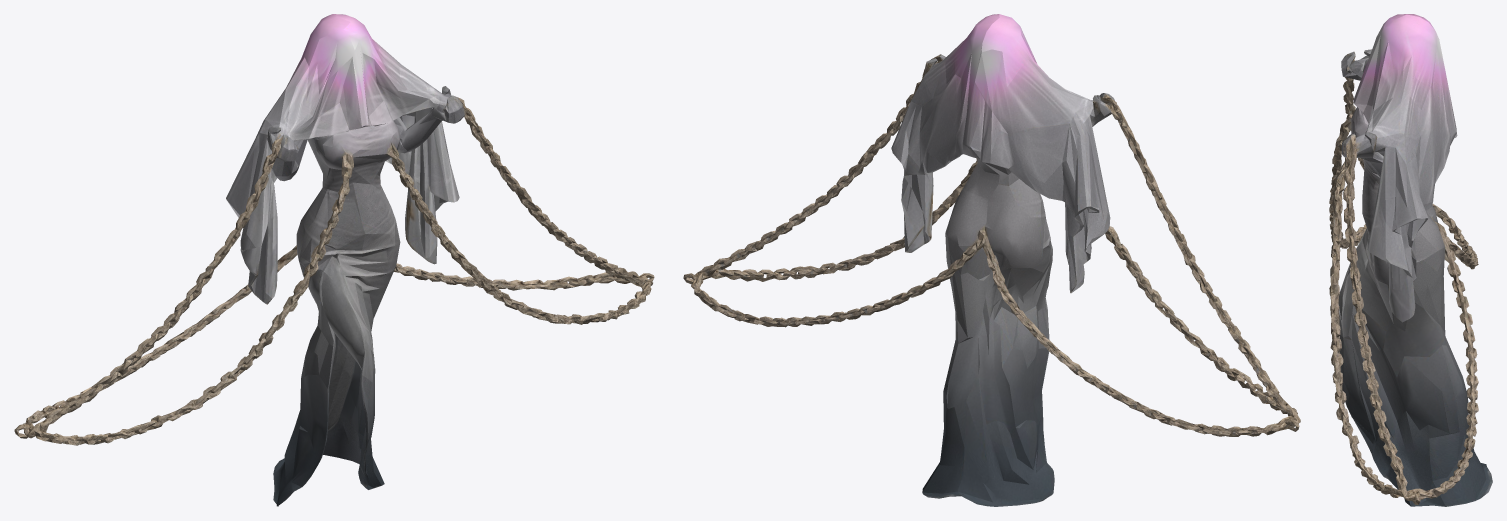
File: boss_chained_radiance.glb
3 renders of one model, left to right at view 1: azimuth 30°, elevation 25°; view 2: azimuth 150°, elevation 25°; view 3: azimuth 270°, elevation 25°, orthographic. The views are drawn at different scales.
Parts seen in each view (by area): view 1: output_unwrapped; view 2: output_unwrapped; view 3: output_unwrapped.
Part boxes in pixels (x1,y1,x2,y2): output_unwrapped: (14,14,654,506); output_unwrapped: (683,14,1300,506); output_unwrapped: (1329,14,1492,506).
Bounding box in the file's own units: 1.9 × 1.37 × 0.4317.
1 material, 1 textured.
